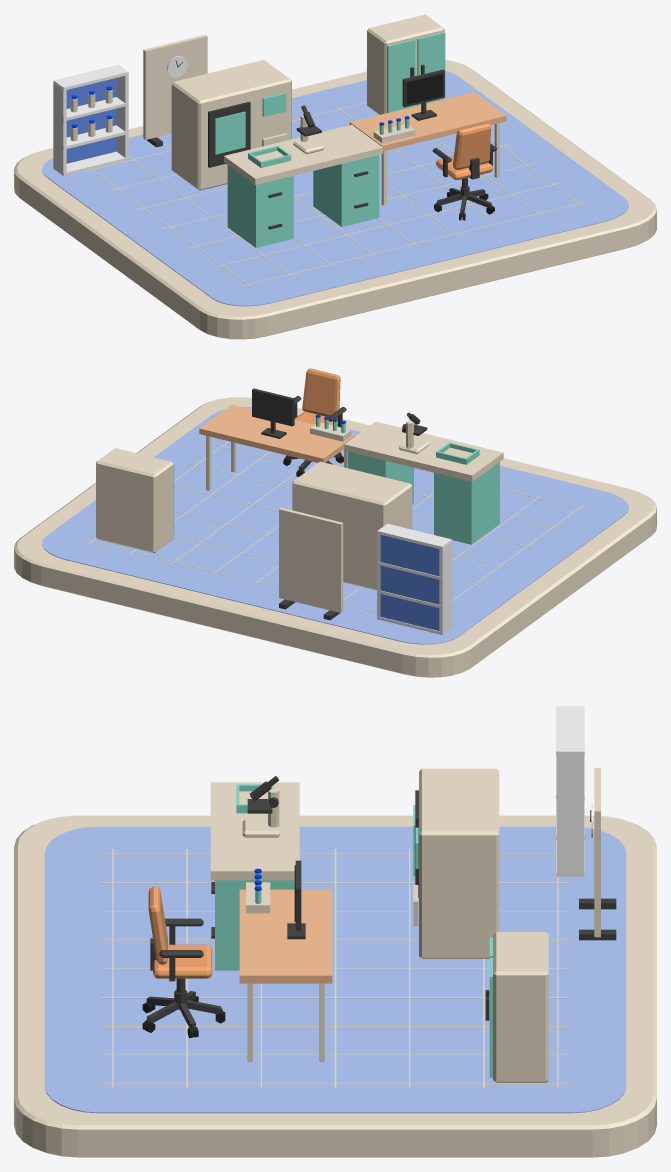
3 views of the same model, one above another, from view 1: azimuth 30°, elevation 25°; view 2: azimuth 150°, elevation 25°; view 3: azimuth 270°, elevation 25° (orthographic). The views are drawn at different scales.
Parts seen in each view (by area): view 1: COM-02 Floor Surface, COM-01 Rounded Base Direct, Analysis cabinet, Top, Storage module, Worktop, Storage module.001, Panel, COM-04_Chair_blender_direct, Equipment case, Cabinet back, Door (+13 smaller); view 2: COM-02 Floor Surface, COM-01 Rounded Base Direct, Analysis cabinet, Equipment case, Panel, Cabinet back, Top, Storage module, Worktop, COM-04_Chair_blender_direct, Frame, Clean supply cabinet side (+3 smaller); view 3: COM-02 Floor Surface, COM-01 Rounded Base Direct, Analysis cabinet, Top, Equipment case, Worktop, COM-04_Chair_blender_direct, Clean supply cabinet side.001, Storage module.001, Clean supply shelf.003, Panel, Grout X.008 (+5 smaller).
Boxes of the visible parts, x1,y1,x2,y2 form: COM-02 Floor Surface: (42,71,628,306); COM-01 Rounded Base Direct: (14,60,656,339); Analysis cabinet: (171,60,291,190); Top: (349,92,506,205); Storage module: (227,165,293,247); Worktop: (224,124,382,184); Storage module.001: (313,155,379,226); Panel: (143,34,207,139); COM-04_Chair_blender_direct: (432,123,497,220); Equipment case: (367,14,444,114); Cabinet back: (66,78,116,163); Door: (387,39,415,112); COM-02 Floor Surface: (42,407,628,644); COM-01 Rounded Base Direct: (14,397,656,677); Analysis cabinet: (292,461,412,590); Equipment case: (96,448,173,553); Panel: (279,507,343,612); Cabinet back: (380,535,439,630); Top: (199,404,355,490); Storage module: (434,462,499,544); Worktop: (344,421,503,481); COM-04_Chair_blender_direct: (283,368,346,476); Frame: (252,388,294,438); Clean supply cabinet side: (439,541,452,634); COM-02 Floor Surface: (44,826,626,1113); COM-01 Rounded Base Direct: (14,815,656,1157); Analysis cabinet: (419,768,499,958); Top: (239,889,332,1061); Equipment case: (493,932,548,1082); Worktop: (210,782,299,880); COM-04_Chair_blender_direct: (142,886,225,1038); Clean supply cabinet side.001: (556,753,584,876); Storage module.001: (215,880,294,970); Clean supply shelf.003: (556,706,584,755); Panel: (594,768,600,937); Grout X.008: (100,1083,570,1084).
Bounding box in the file's own units: 6 × 1.69 × 5.2.
1 material, 1 textured.
